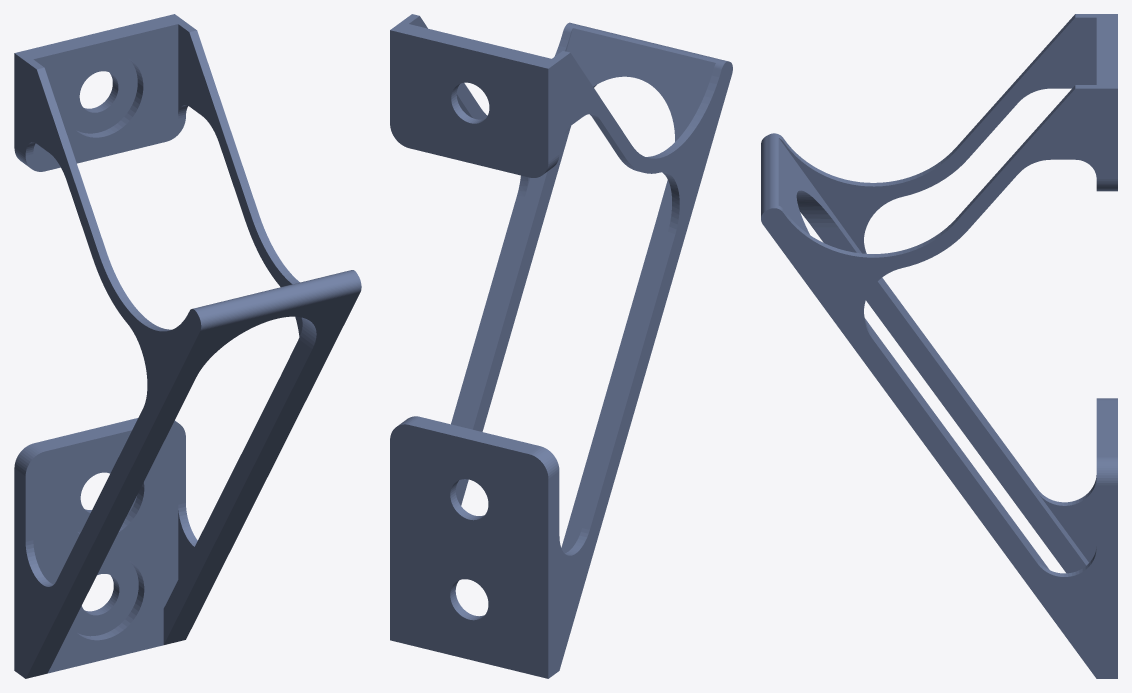
3 renders of one model, left to right at view 1: azimuth 30°, elevation 25°; view 2: azimuth 150°, elevation 25°; view 3: azimuth 270°, elevation 25°, orthographic. The views are drawn at different scales.
Parts seen in each view (by area): view 1: cw3-v1; view 2: cw3-v1; view 3: cw3-v1.
Part boxes in pixels (bbox=[...]): cw3-v1: bbox=[14, 14, 361, 678]; cw3-v1: bbox=[390, 14, 732, 678]; cw3-v1: bbox=[761, 14, 1117, 678].
Bounding box in the file's own units: 0.0414 × 0.1525 × 0.0836.
